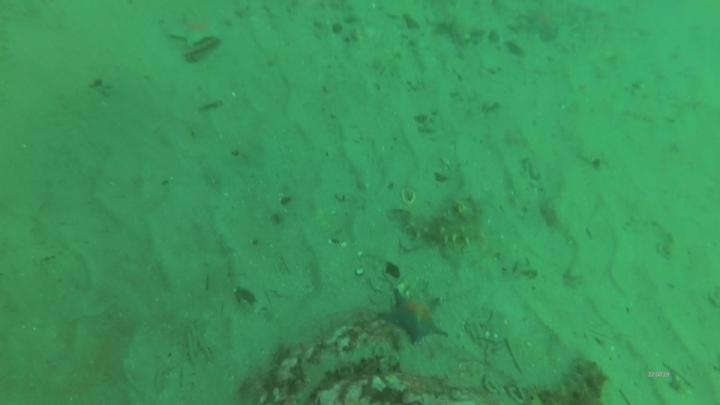holothurian: (407, 191, 488, 250), (536, 356, 612, 405)
starfish: (380, 288, 453, 348), (164, 10, 228, 51)
